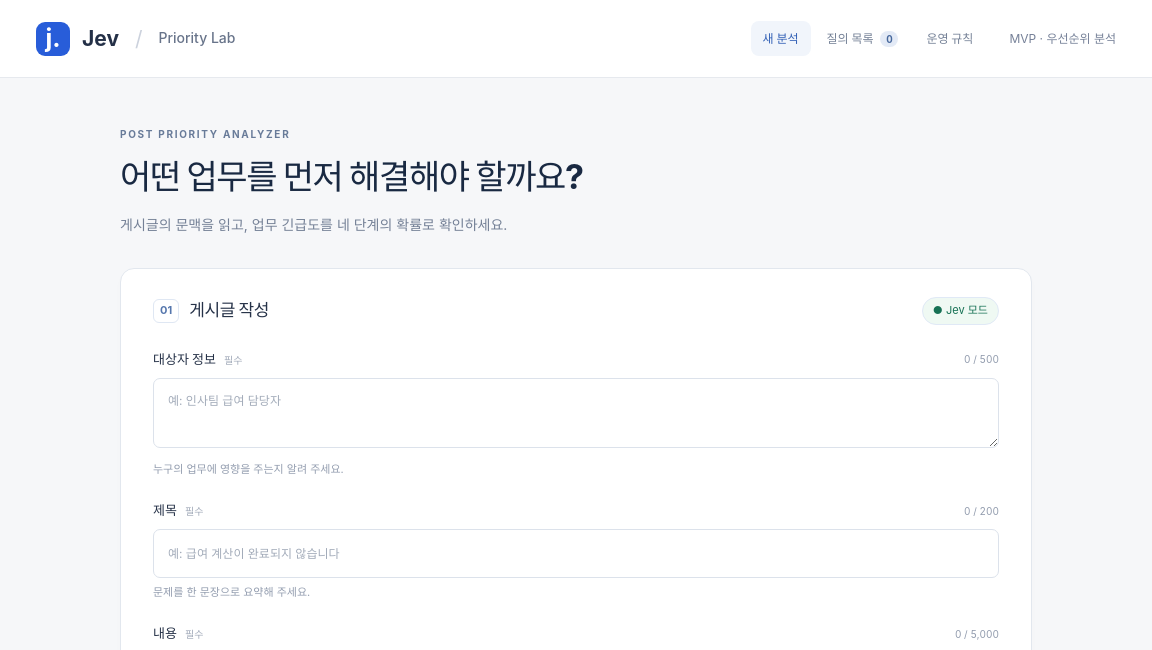
keeps a successful analysis and shows a Discord delivery failure
Expected: the text "● Jev 모드" is shown, [922, 297, 999, 325]
Type "인사팀 급여 담당자" into the text box with id "targetInfo". click: (576, 413)
box: [153, 378, 999, 448]
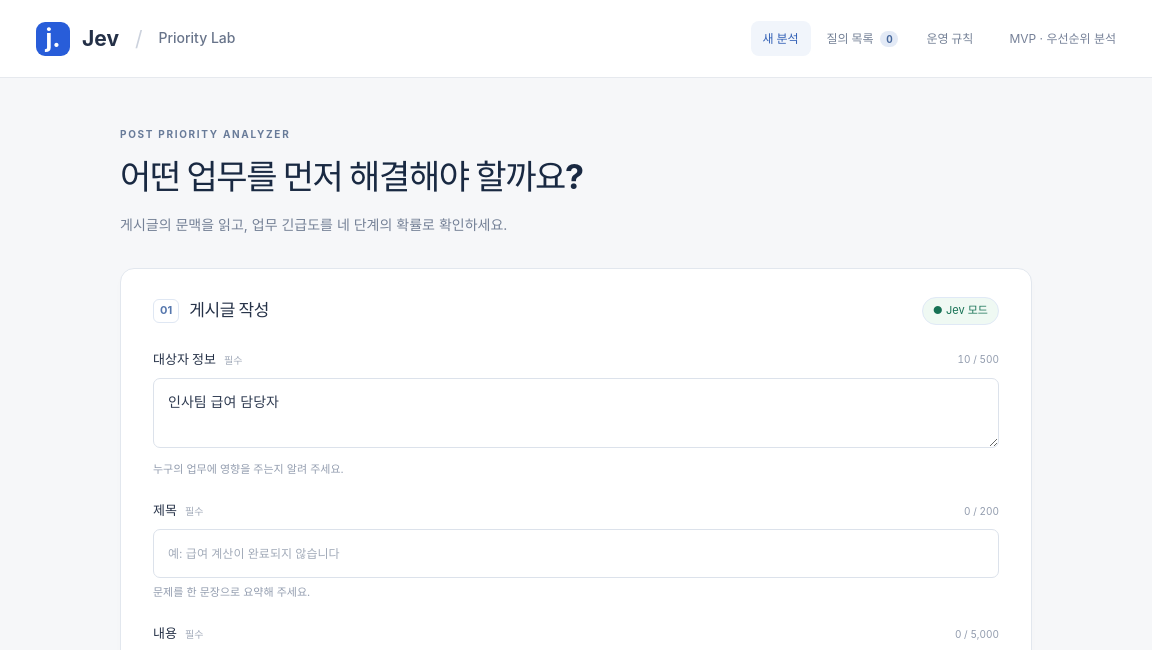
Type "급여 계산이 멈췄습니다" into the field with id "title". click: (576, 553)
box: [153, 529, 999, 578]
(page scrolled)
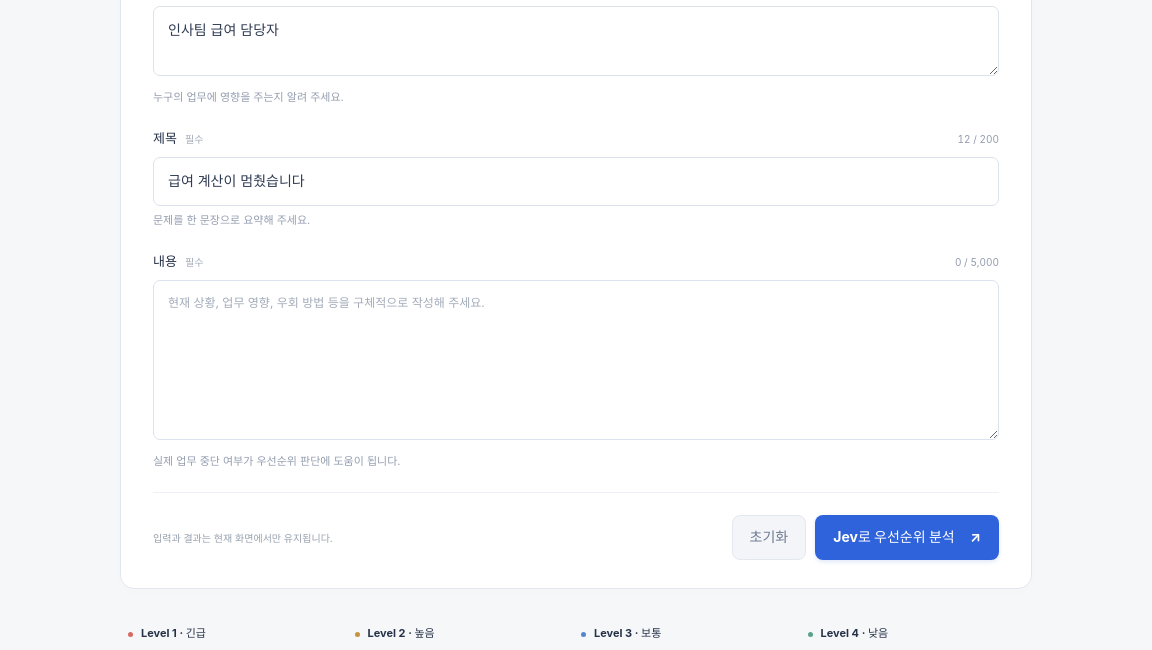
Type "급여 계산이 처리 중에서 넘어가지 않아 오늘 마감 업무를 진행할 수 없습니다." into the text box labelled "내용 필수". click: (576, 360)
box: [153, 280, 999, 440]
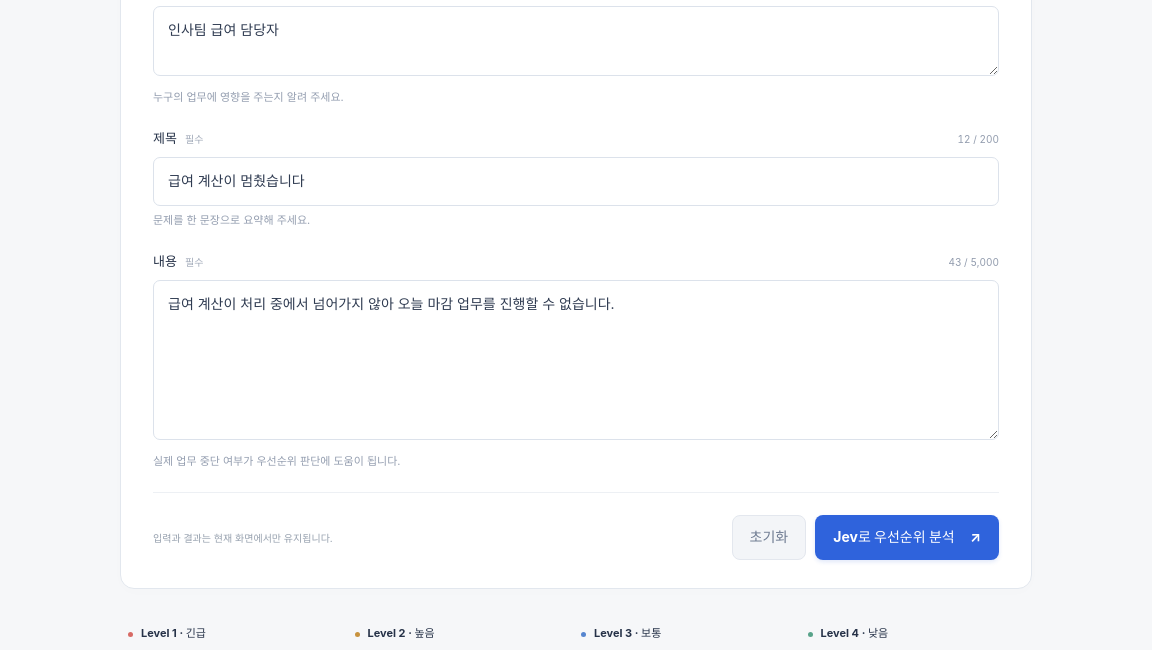
Click the button "Jev로 우선순위 분석 ↗". click: (907, 538)
box: [815, 515, 999, 560]
(page scrolled)
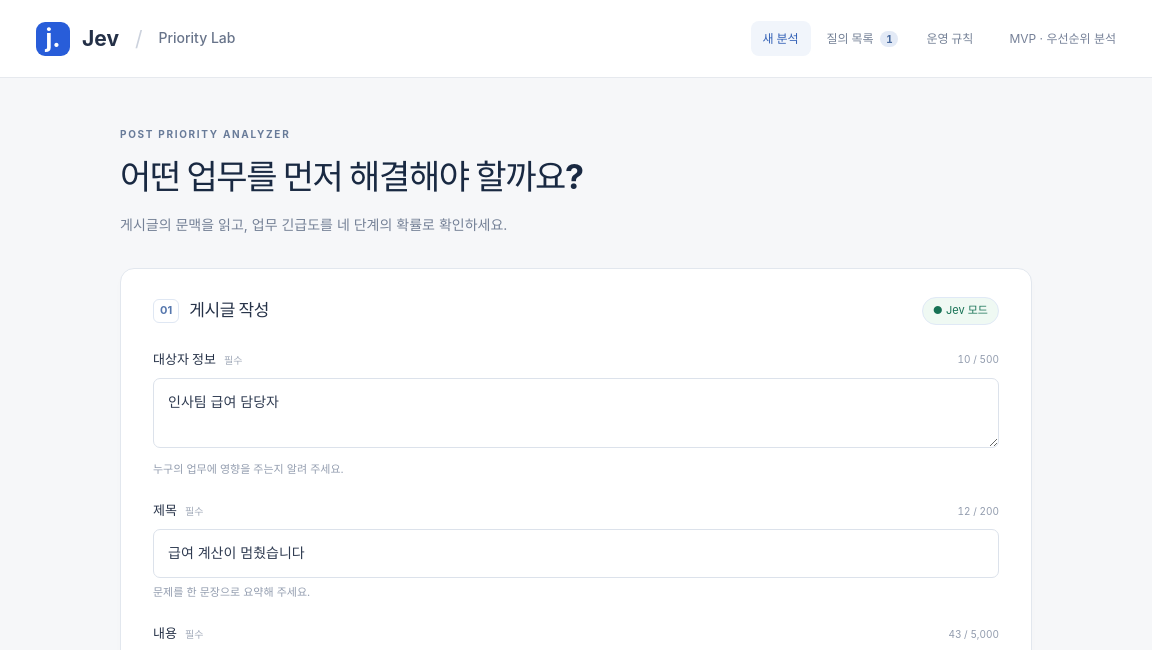
Click the button "질의 목록 1". click: (862, 38)
box: [814, 21, 910, 56]
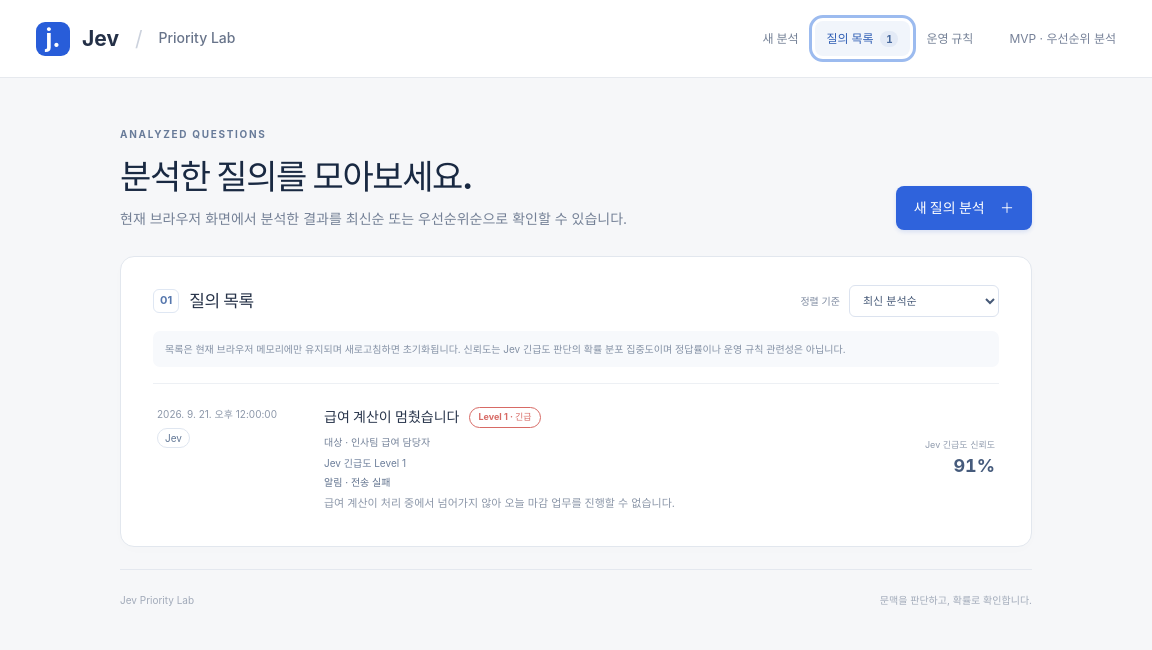
Expected: the text "알림 · 전송 실패" is shown, [324, 476, 390, 488]
